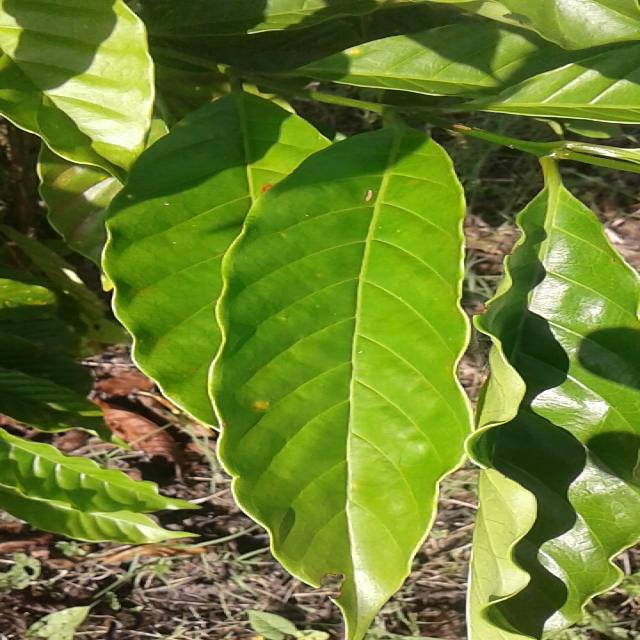Enfermedad-Roya: (209, 124, 473, 640)
